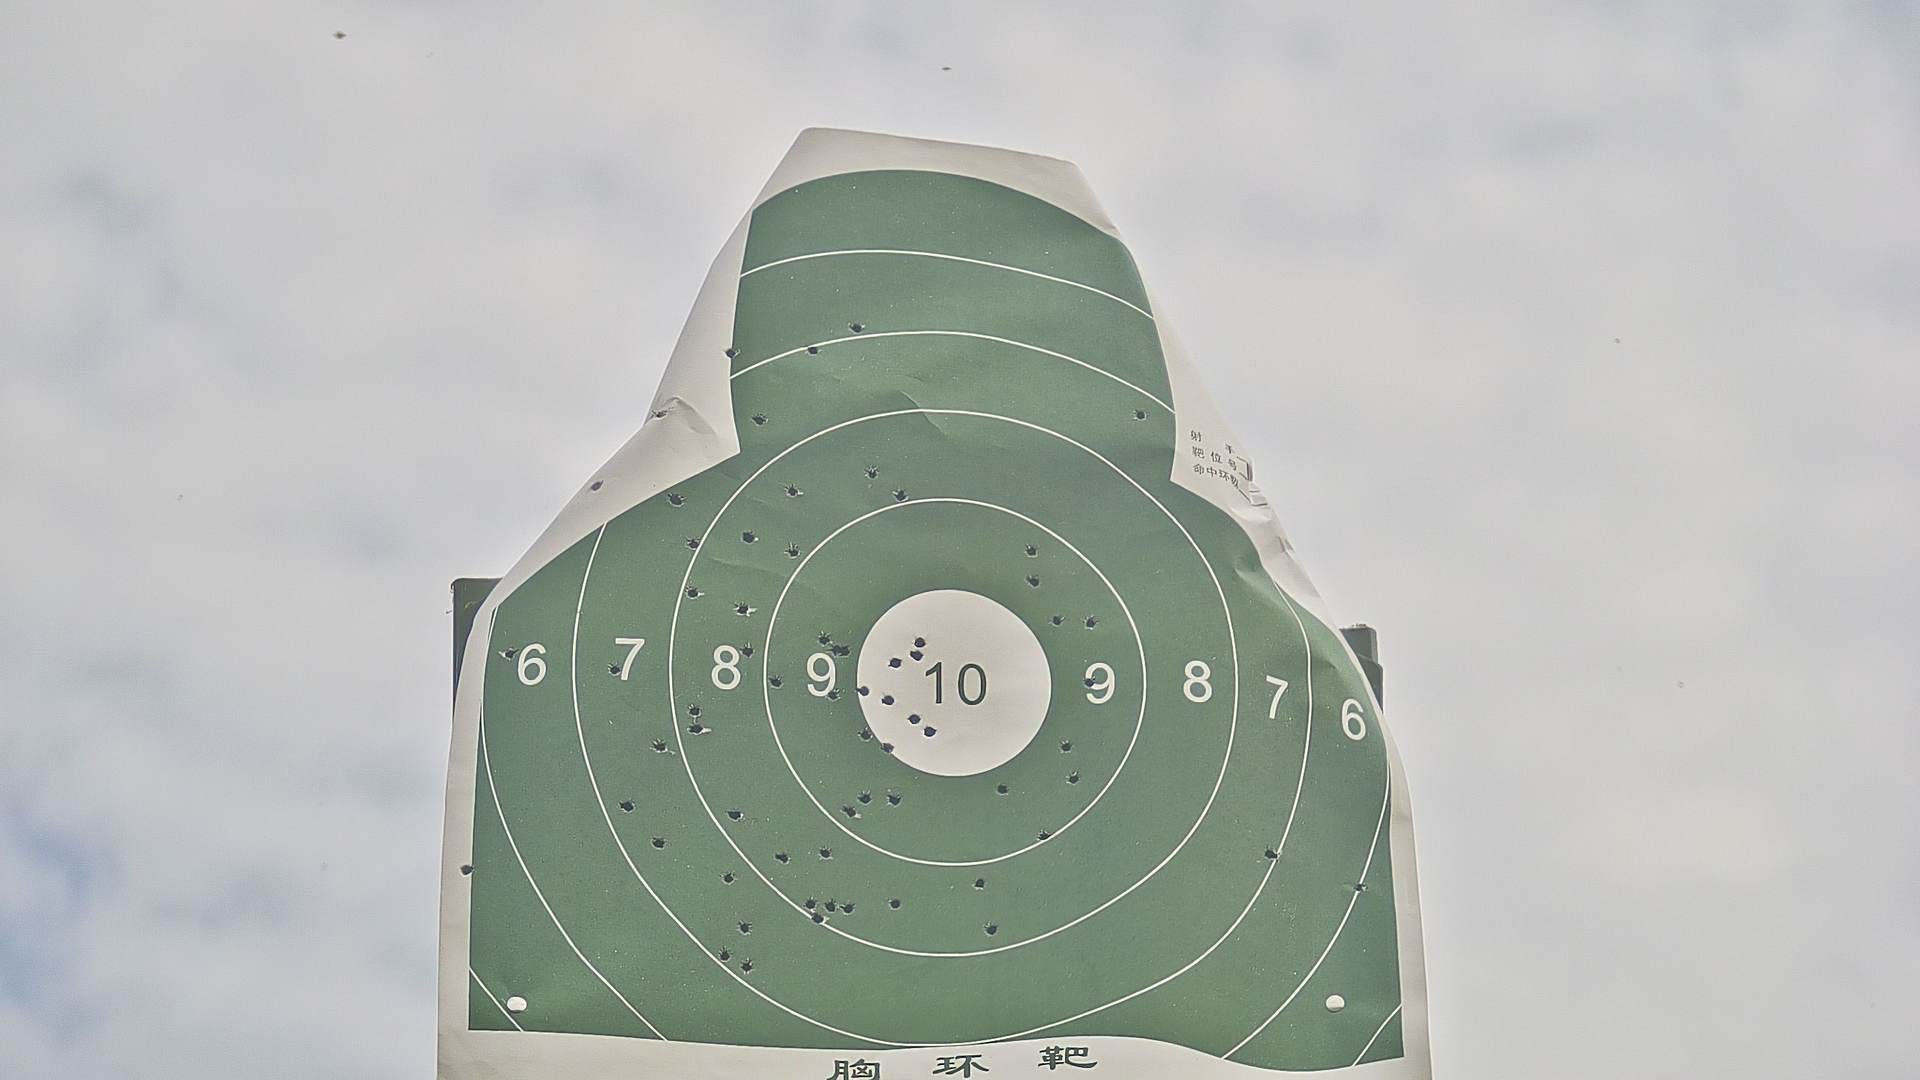hole: (650, 737, 667, 754), (735, 603, 752, 618), (669, 493, 684, 509), (982, 922, 1000, 936), (458, 862, 476, 876), (742, 530, 758, 545), (887, 895, 902, 911), (923, 723, 938, 738), (621, 796, 634, 814), (737, 919, 752, 934), (740, 960, 754, 975), (740, 644, 753, 659), (841, 899, 855, 915), (843, 804, 856, 820), (837, 644, 851, 659), (500, 645, 516, 658), (688, 723, 705, 735), (808, 913, 825, 924), (1133, 407, 1147, 421), (1353, 880, 1367, 893), (1051, 612, 1064, 626), (588, 479, 603, 492), (775, 852, 791, 864), (887, 793, 899, 808), (1263, 848, 1280, 858), (752, 414, 765, 427), (727, 808, 740, 822), (858, 791, 872, 804), (972, 877, 985, 890), (1084, 616, 1097, 629), (723, 345, 737, 357), (687, 537, 702, 549), (720, 872, 735, 884), (819, 847, 831, 861), (825, 898, 837, 913), (1038, 829, 1052, 841), (1026, 543, 1040, 555), (825, 690, 840, 702), (909, 712, 920, 727), (686, 587, 702, 597), (651, 837, 663, 851), (1027, 574, 1039, 587), (770, 676, 783, 688), (818, 632, 829, 645), (910, 649, 923, 661), (882, 742, 894, 756), (860, 727, 872, 740), (785, 487, 799, 497), (889, 658, 903, 669), (998, 781, 1007, 796), (851, 322, 862, 334), (804, 898, 816, 910), (1062, 740, 1073, 752), (915, 636, 927, 647), (858, 684, 870, 696), (884, 694, 895, 705), (866, 467, 877, 480), (609, 662, 620, 675), (688, 705, 702, 716), (1069, 771, 1080, 785), (806, 344, 820, 353), (895, 491, 906, 502), (789, 547, 799, 559), (719, 947, 729, 959), (831, 644, 839, 654), (1085, 676, 1095, 684)
kernel: (948, 684, 949, 688)
target: (465, 167, 1406, 1080)
ten: (855, 584, 1054, 778)
